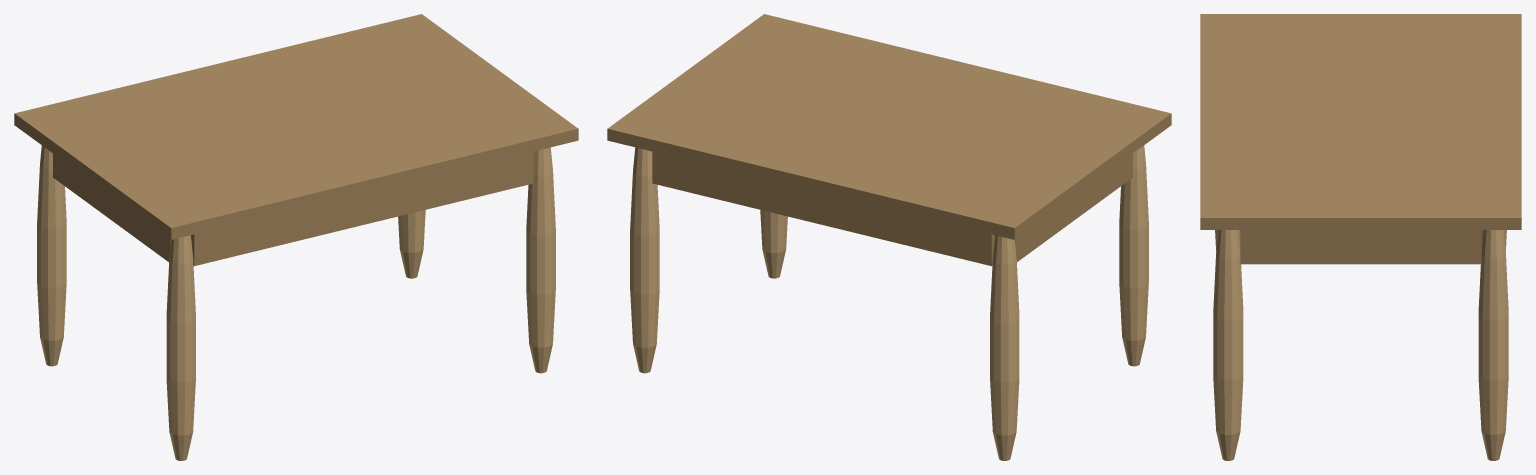
The model's file is SAB-KTB-std.glb.
3 views of the same model, side by side, from view 1: azimuth 30°, elevation 25°; view 2: azimuth 150°, elevation 25°; view 3: azimuth 270°, elevation 25° (orthographic). The views are drawn at different scales.
Visible parts, largest first — view 1: top:pbr, apron-f:pbr, leg-fl:pbr, leg-fr:pbr, leg-bl:pbr, apron-l:pbr, leg-br:pbr; view 2: top:pbr, apron-b:pbr, leg-bl:pbr, leg-br:pbr, leg-fl:pbr, apron-l:pbr, leg-fr:pbr; view 3: top:pbr, apron-r:pbr, leg-fr:pbr, leg-br:pbr.
Boxes of the visible parts, left/top/right/bottom form: top:pbr: left=14, top=14, right=578, bottom=239; apron-f:pbr: left=191, top=151, right=533, bottom=266; leg-fl:pbr: left=166, top=235, right=195, bottom=460; leg-fr:pbr: left=526, top=147, right=555, bottom=373; leg-bl:pbr: left=37, top=145, right=66, bottom=366; apron-l:pbr: left=53, top=153, right=170, bottom=261; leg-br:pbr: left=398, top=210, right=425, bottom=278; top:pbr: left=607, top=14, right=1171, bottom=239; apron-b:pbr: left=652, top=151, right=994, bottom=266; leg-bl:pbr: left=990, top=235, right=1019, bottom=460; leg-br:pbr: left=630, top=147, right=659, bottom=373; leg-fl:pbr: left=1119, top=145, right=1148, bottom=366; apron-l:pbr: left=1015, top=153, right=1132, bottom=261; leg-fr:pbr: left=760, top=210, right=787, bottom=278; top:pbr: left=1200, top=14, right=1521, bottom=229; apron-r:pbr: left=1240, top=230, right=1481, bottom=264; leg-fr:pbr: left=1213, top=230, right=1243, bottom=460; leg-br:pbr: left=1478, top=230, right=1508, bottom=460.
Bounding box in the file's own units: 0.9 × 0.52 × 0.6.
